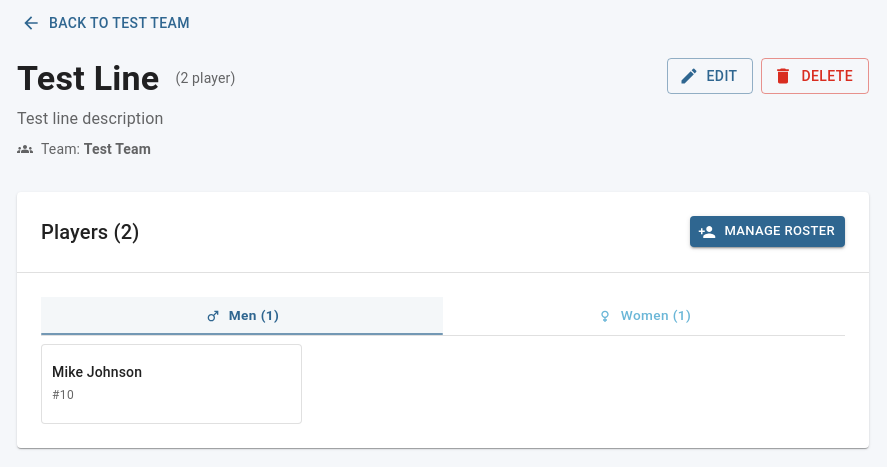
Test: LineDetailPage › displays gender-split player sections
The width and height of the screenshot is (887, 467).
Check: the text "Mike Johnson" is shown, box [52,362,142,382]
Check: the tab "Men (1)" is shown, box [41,296,443,334]
Click the tab "Women (1)". click: (644, 316)
box: [443,296,845,334]
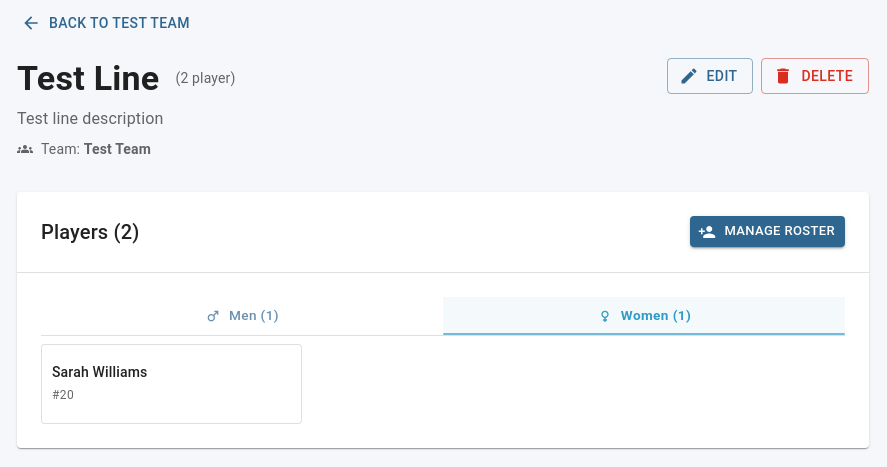
Check: the text "Sarah Williams" is shown, box [52,362,147,382]
